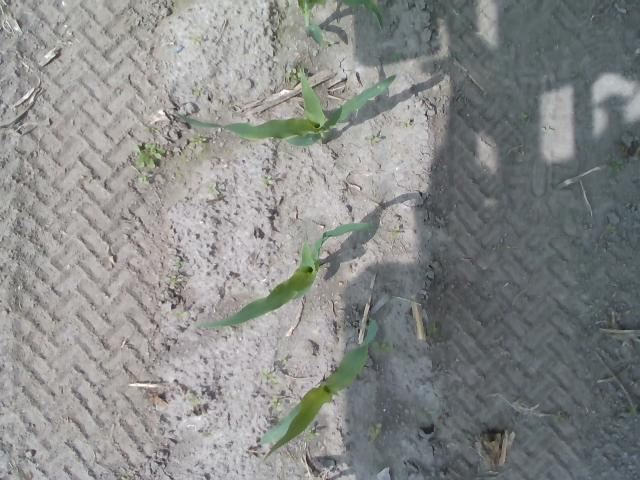Maize: (189, 222, 374, 330), (258, 316, 380, 462), (170, 71, 397, 148), (296, 0, 385, 48)
Weeds: (129, 140, 166, 168), (258, 366, 280, 384), (374, 336, 394, 354), (608, 155, 624, 174), (368, 422, 382, 441), (192, 132, 208, 146), (207, 182, 220, 196), (366, 133, 382, 144), (286, 68, 298, 82), (606, 222, 618, 236), (259, 175, 274, 186), (142, 126, 162, 134), (136, 175, 150, 186), (418, 406, 433, 416), (626, 404, 638, 415), (517, 110, 528, 122), (306, 431, 320, 439), (392, 52, 404, 61), (390, 226, 400, 236), (270, 399, 280, 408), (194, 86, 203, 96), (170, 276, 176, 289)
